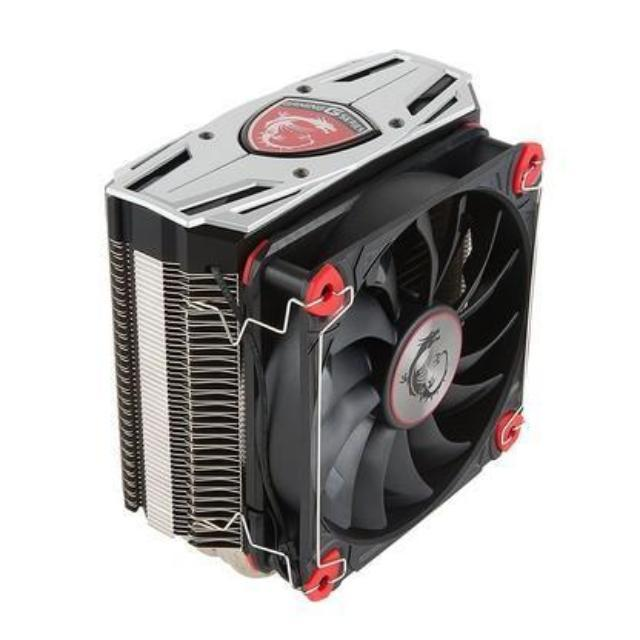CPU_Fan: (101, 49, 546, 604)
